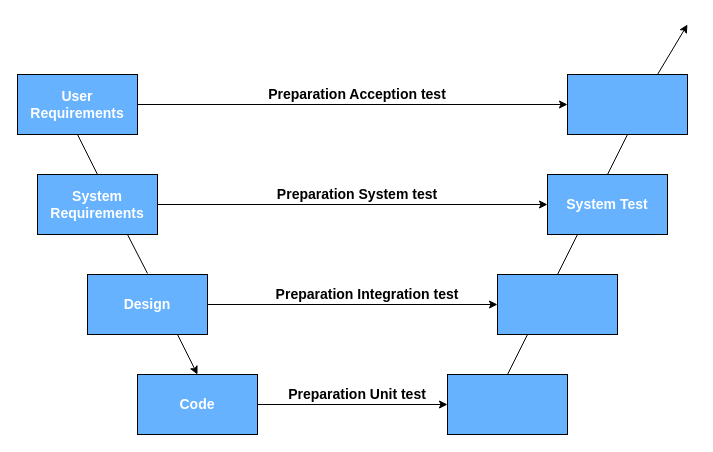
Some shapes in this 713 by 452 pixel diagram are drawn without their labels. Here are the shapes that lost their labels. From the top down, the centre of each, then its label:
the point at 627,104: Acception Test
the point at 557,304: Integration Test
the point at 507,404: Unit Test
